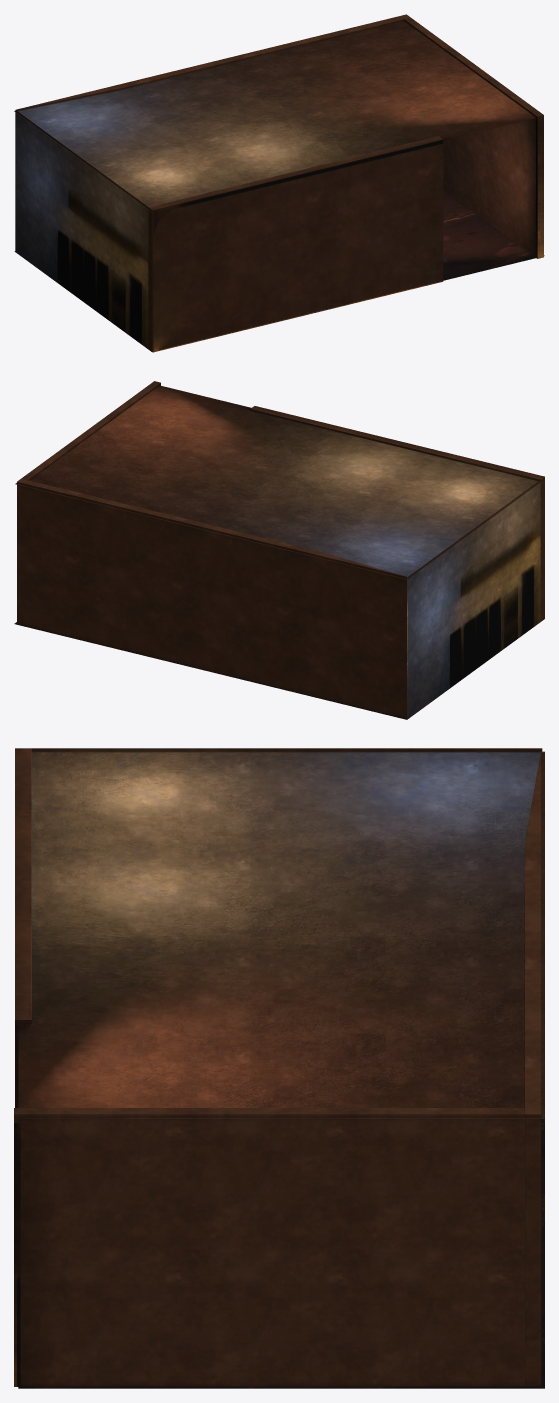
The model's file is final_kitchen.glb.
The picture shows the model from 3 angles, top to bottom: view 1: azimuth 30°, elevation 25°; view 2: azimuth 150°, elevation 25°; view 3: azimuth 270°, elevation 25°; orthographic projection. The views are drawn at different scales.
Visible parts, largest first — view 1: Plane.028, Plane.029, Plane.012, Plane.013, Plane.027, Plane.011; view 2: Plane.011, Plane.028, Plane.012, Plane.029, Plane.013, Plane.027; view 3: Plane.028, Plane.013, Plane.011, Plane.029, Plane.027, Plane.012.
Part boxes in pixels (x1,y1,x2,y2): Plane.028: (14, 21, 535, 211); Plane.029: (148, 136, 443, 352); Plane.012: (15, 110, 148, 348); Plane.013: (404, 17, 543, 258); Plane.027: (14, 190, 544, 351); Plane.011: (16, 14, 410, 111); Plane.011: (17, 478, 406, 718); Plane.028: (15, 385, 544, 579); Plane.012: (407, 480, 540, 718); Plane.029: (250, 406, 544, 621); Plane.013: (21, 381, 160, 480); Plane.027: (14, 589, 543, 719); Plane.028: (18, 751, 544, 1118); Plane.013: (14, 1108, 524, 1386); Plane.011: (525, 751, 541, 1386); Plane.029: (15, 748, 31, 1107); Plane.027: (18, 1119, 544, 1388); Plane.012: (31, 748, 542, 752).
Bounding box in the file's own units: 15.2 × 5.28 × 9.27.
Materials: 117 (70 with a texture image).
